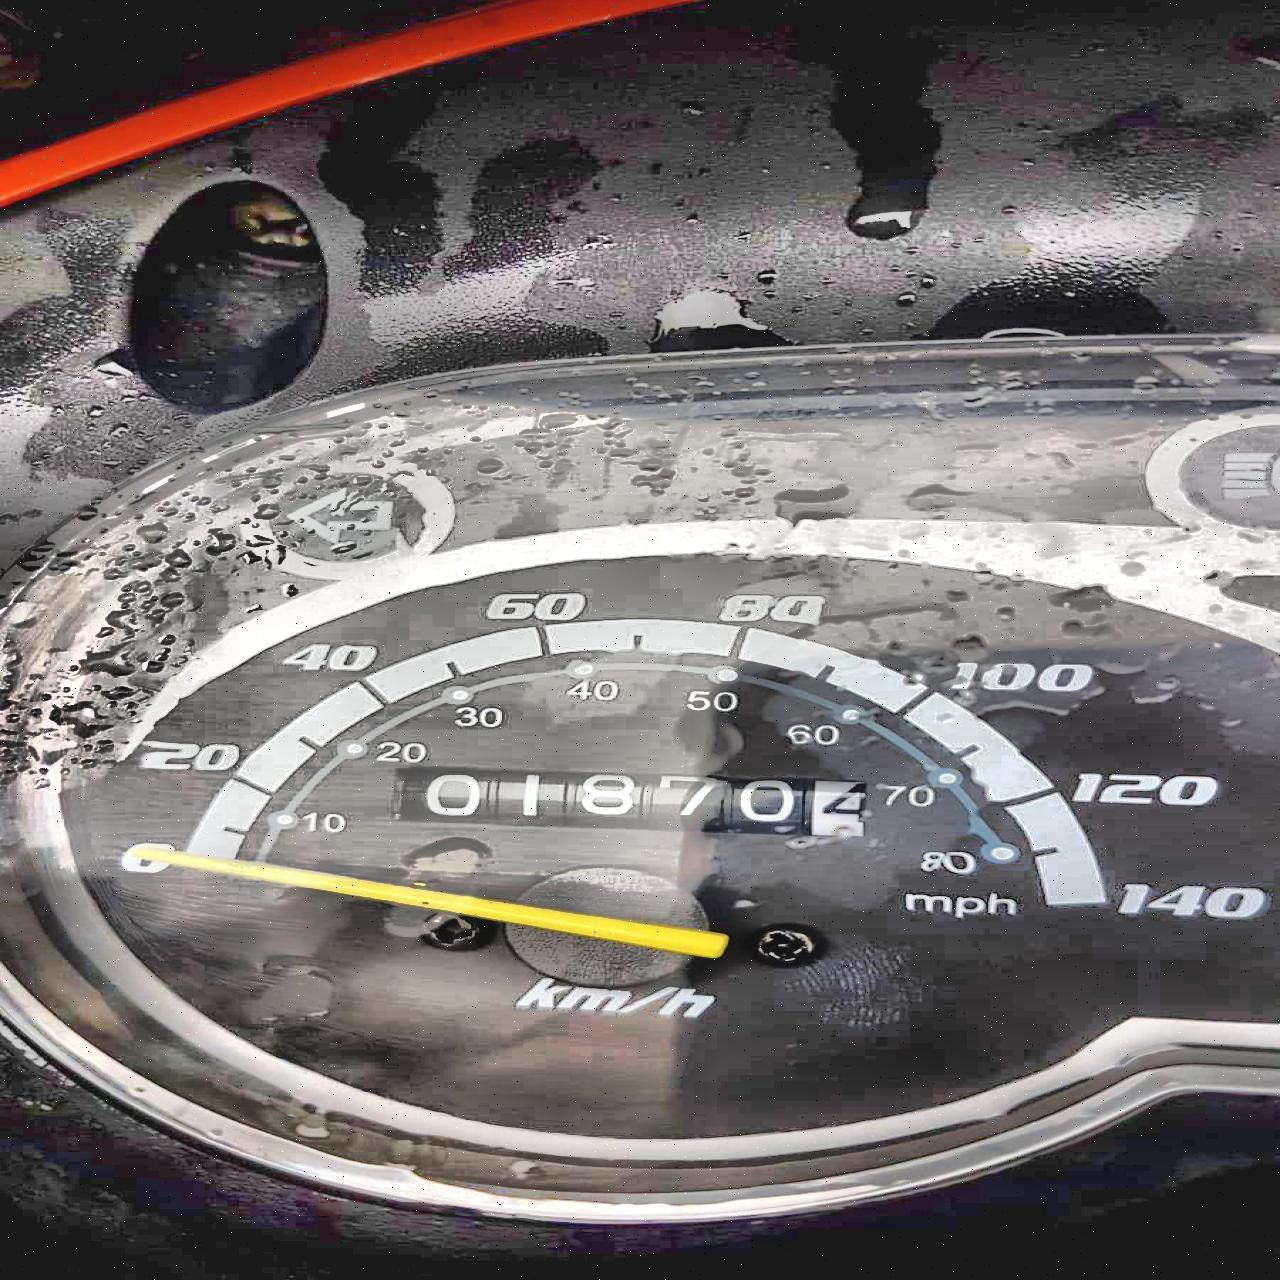0: (736, 778, 794, 823), (424, 774, 479, 816)
1: (520, 774, 540, 816)
4: (821, 781, 871, 822)
7: (655, 770, 720, 819)
8: (579, 772, 633, 815)
odometer: (386, 761, 874, 838)
